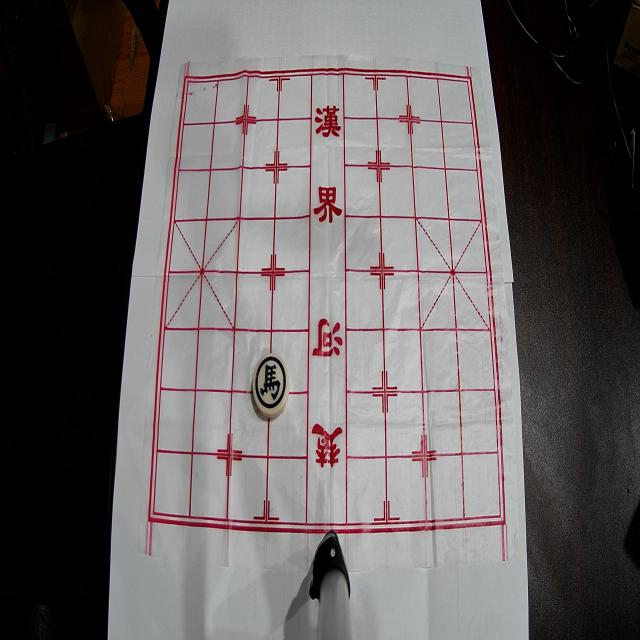black-horse: (252, 354, 290, 418)
